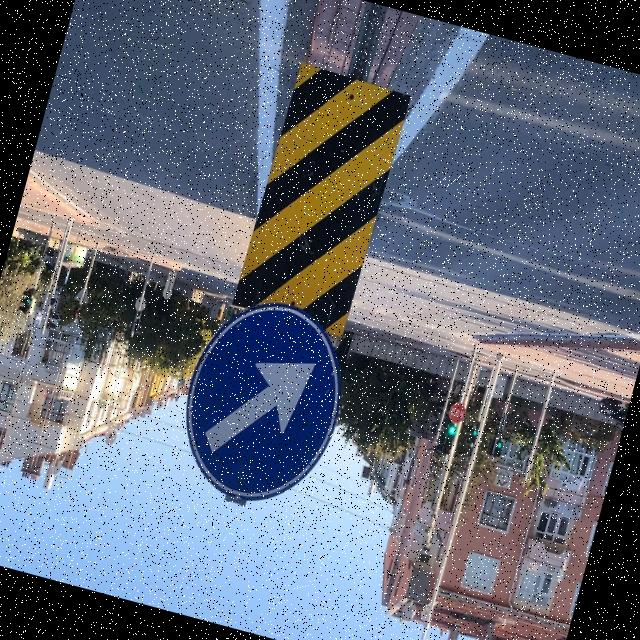compulsory_keep_right: (158, 286, 360, 524)
